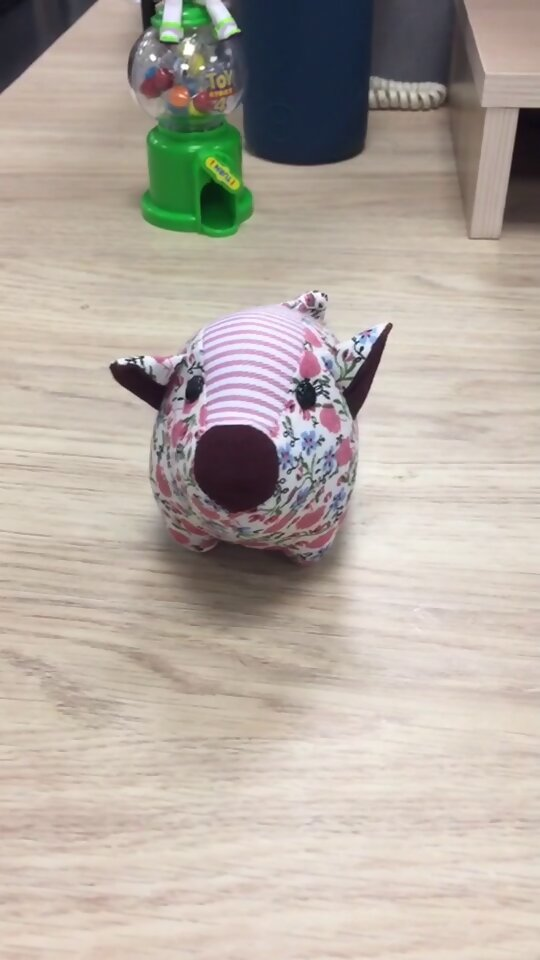pig: (104, 283, 397, 574)
